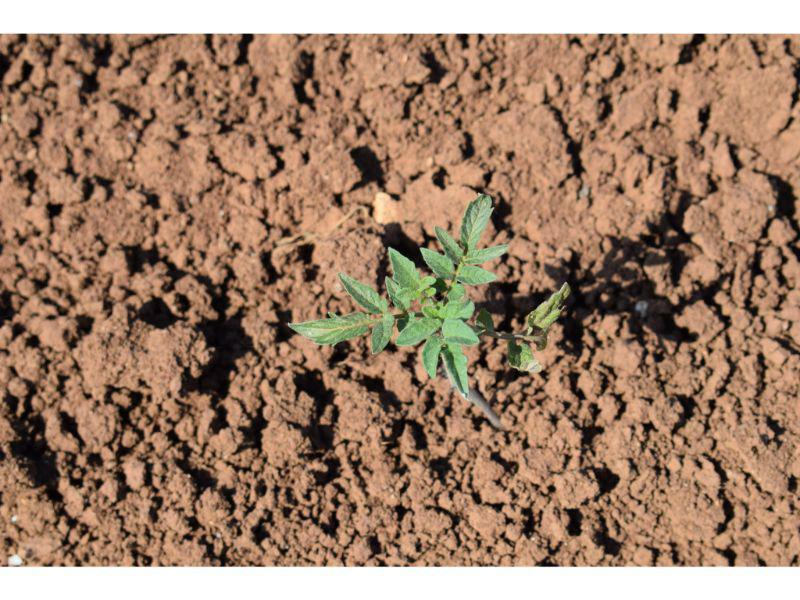tomato: (288, 197, 569, 400)
